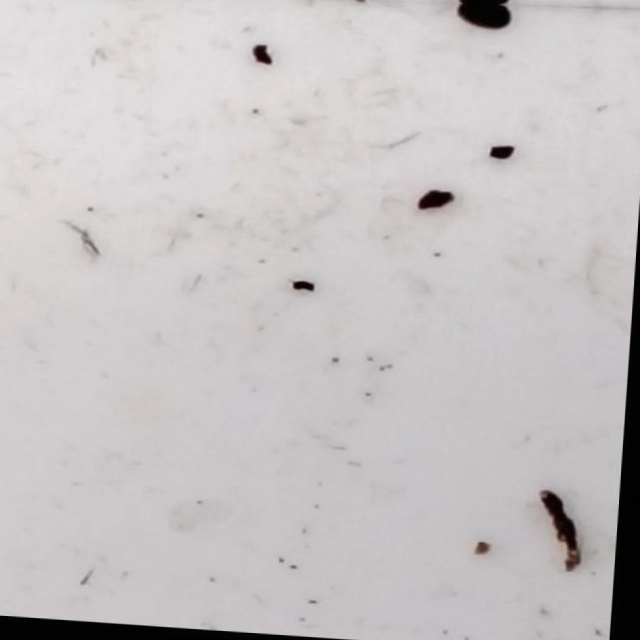varroa: (451, 3, 514, 34)
